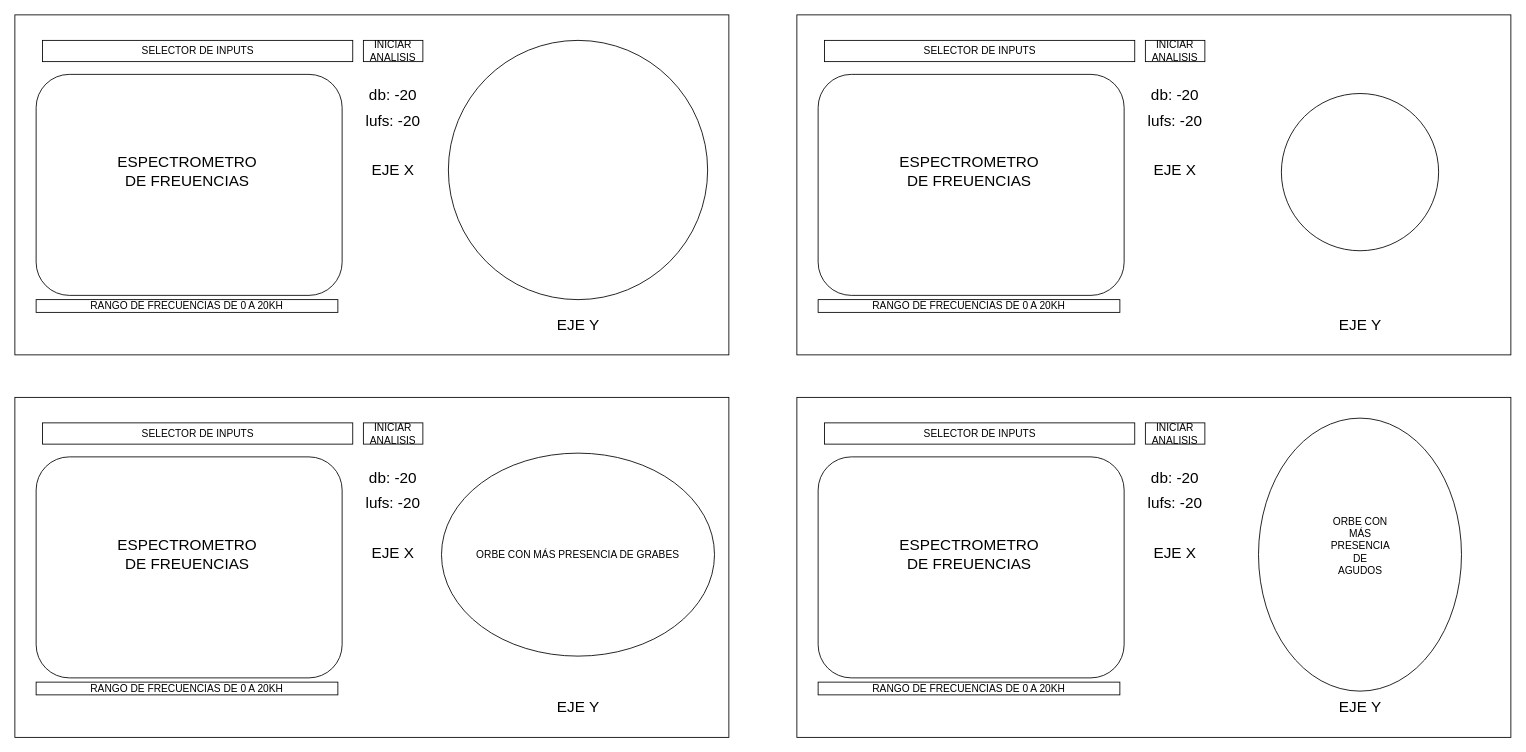
Some shapes in this 1526 by 752 pixel diagram are drawn without their labels. Here are the shapes that lost their labels. From the top down, the centre of each, then its label:
point (578, 170): ORBE CON VOLUMEN FUERTE
point (1360, 172): ORBE CON VOLUMEN BAJO
